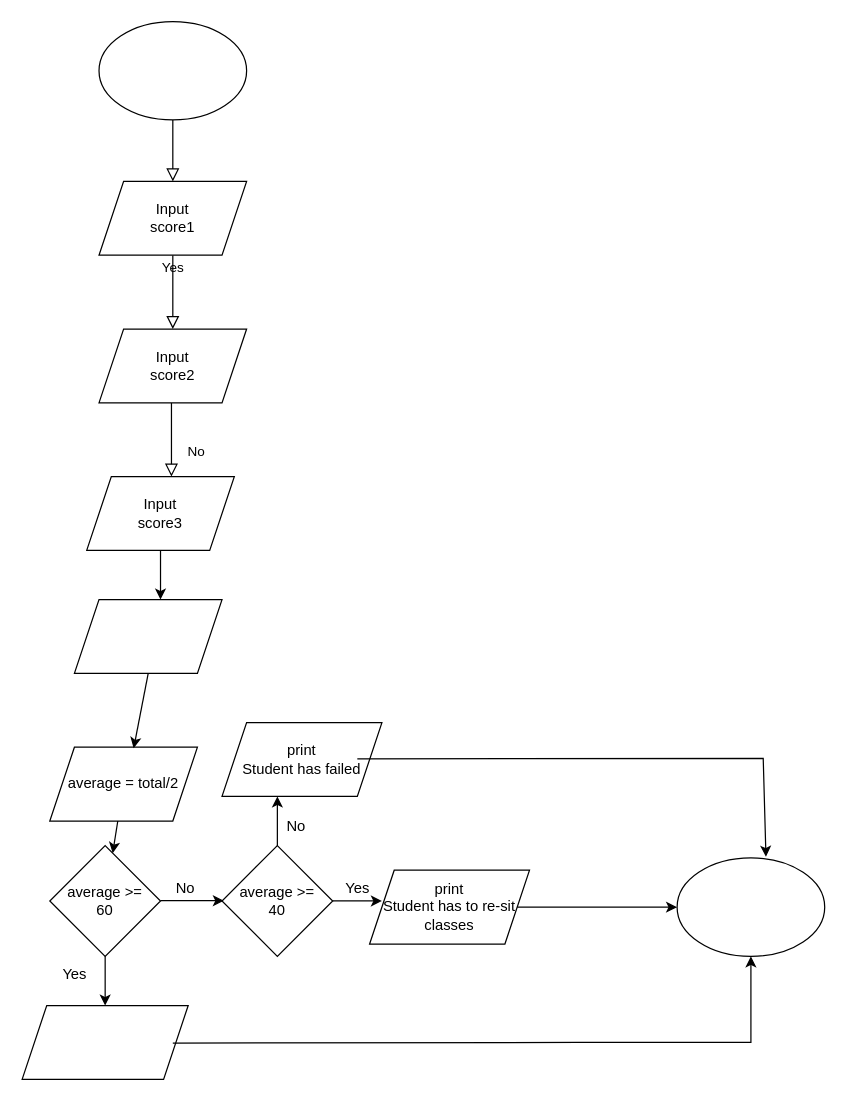
The diagram is 846 pixels wide and 1101 high, and some of its shapes have lost their labels. The centre of each missing label's shape, as x and y in pixels:
"print Student has passed" goes at (x=104, y=1041).
"Start" goes at (x=172, y=70).
"Stop" goes at (x=750, y=906).
"total = score1 + score2 + score3" goes at (x=147, y=635).
